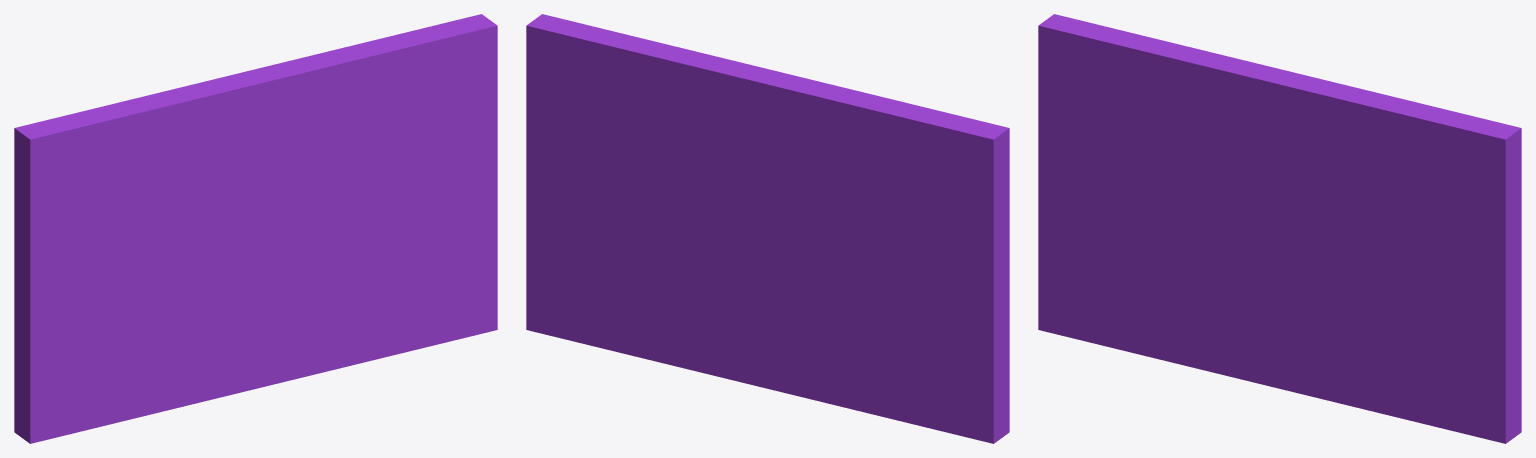
Rendered from Barrier_102_chunks.fbx.
3 renders of one model, left to right at view 1: azimuth 30°, elevation 25°; view 2: azimuth 150°, elevation 25°; view 3: azimuth 330°, elevation 25°, orthographic.
Parts seen in each view (by area): view 1: Barrier_102_1, Barrier_102_6, Barrier_102_2, Barrier_102_7, Barrier_102_9, Barrier_102_3, Barrier_102_0, Barrier_102_8, Barrier_102_4; view 2: Barrier_102_1, Barrier_102_2, Barrier_102_6, Barrier_102_3, Barrier_102_7, Barrier_102_9, Barrier_102_5; view 3: Barrier_102_1, Barrier_102_6, Barrier_102_2, Barrier_102_7, Barrier_102_9, Barrier_102_3, Barrier_102_0, Barrier_102_8, Barrier_102_4.
Boxes of the visible parts, left/top/right/bottom form: Barrier_102_1: left=270, top=14, right=497, bottom=368; Barrier_102_6: left=14, top=59, right=321, bottom=194; Barrier_102_2: left=14, top=289, right=169, bottom=443; Barrier_102_7: left=14, top=135, right=155, bottom=310; Barrier_102_9: left=177, top=50, right=346, bottom=254; Barrier_102_3: left=169, top=302, right=337, bottom=409; Barrier_102_0: left=42, top=219, right=296, bottom=306; Barrier_102_8: left=142, top=183, right=189, bottom=262; Barrier_102_4: left=132, top=304, right=206, bottom=349; Barrier_102_1: left=526, top=14, right=755, bottom=365; Barrier_102_2: left=856, top=295, right=1009, bottom=443; Barrier_102_6: left=713, top=57, right=1009, bottom=196; Barrier_102_3: left=673, top=238, right=857, bottom=410; Barrier_102_7: left=857, top=141, right=1009, bottom=300; Barrier_102_9: left=675, top=50, right=857, bottom=259; Barrier_102_5: left=751, top=229, right=975, bottom=334; Barrier_102_1: left=1278, top=92, right=1521, bottom=443; Barrier_102_6: left=1038, top=14, right=1334, bottom=146; Barrier_102_2: left=1038, top=196, right=1178, bottom=363; Barrier_102_7: left=1038, top=39, right=1164, bottom=210; Barrier_102_9: left=1185, top=82, right=1372, bottom=222; Barrier_102_3: left=1177, top=276, right=1345, bottom=404; Barrier_102_0: left=1049, top=198, right=1305, bottom=317; Barrier_102_8: left=1151, top=135, right=1197, bottom=212; Barrier_102_4: left=1140, top=250, right=1214, bottom=303.
Size of the model in its own units: 462 by 288 by 27.2.
